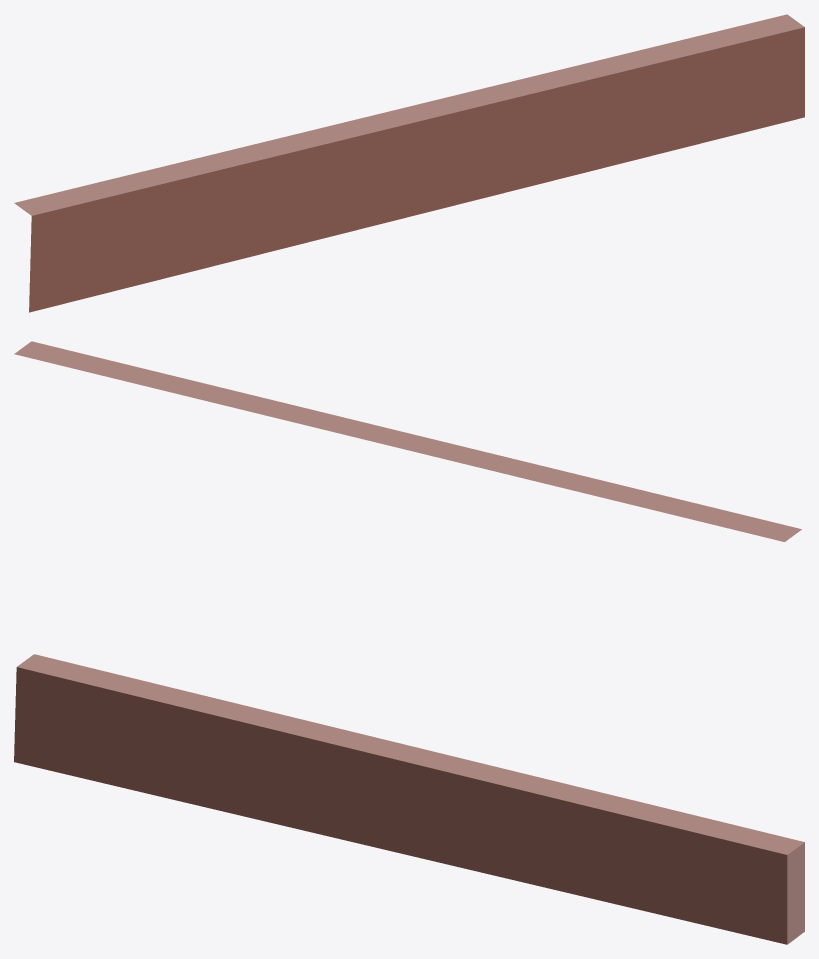
The model's file is BeamGroundSideB.glb.
3 renders of one model, top to bottom at view 1: azimuth 30°, elevation 25°; view 2: azimuth 150°, elevation 25°; view 3: azimuth 330°, elevation 25°, orthographic.
Visible parts, largest first — view 1: BeamGroundSideB; view 2: BeamGroundSideB; view 3: BeamGroundSideB.
Part boxes in pixels (left/top/right/bottom): BeamGroundSideB: left=14, top=14, right=804, bottom=312; BeamGroundSideB: left=14, top=341, right=801, bottom=541; BeamGroundSideB: left=14, top=654, right=804, bottom=944.
Size of the model in its own units: 1.69 by 0.1997 by 0.0666.
